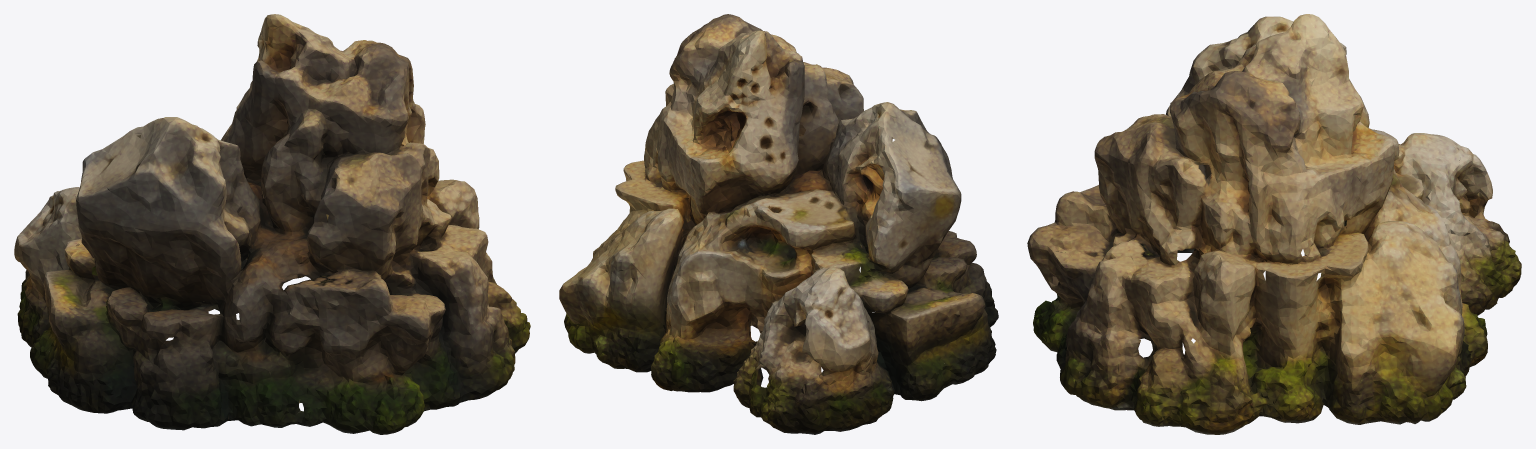
The model's file is shore_rocks_medium.glb.
3 views of the same model, side by side, from view 1: azimuth 30°, elevation 25°; view 2: azimuth 150°, elevation 25°; view 3: azimuth 270°, elevation 25° (orthographic). The views are drawn at different scales.
Visible parts, largest first — view 1: world; view 2: world; view 3: world.
Part boxes in pixels (x1,y1,x2,y2): world: [14, 14, 530, 434]; world: [559, 14, 998, 434]; world: [1027, 14, 1521, 434].
Size of the model in its own units: 0.9961 by 0.7529 by 0.9913.
Materials: 1 (1 with a texture image).
